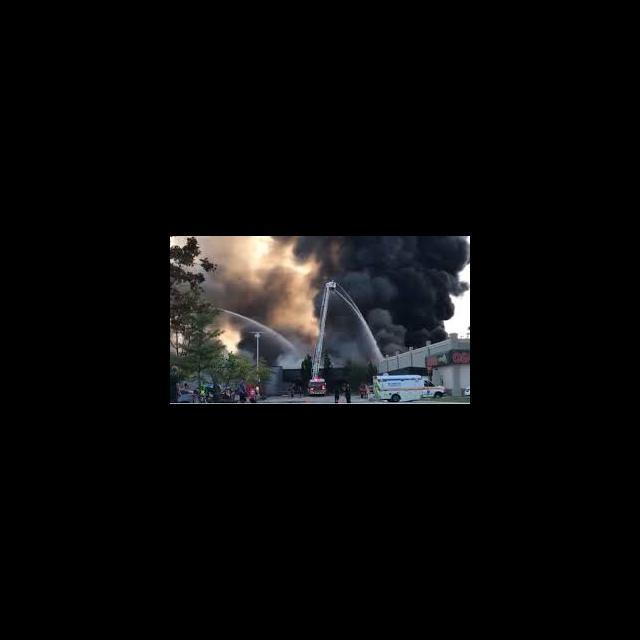Smoke: (310, 238, 470, 352)
